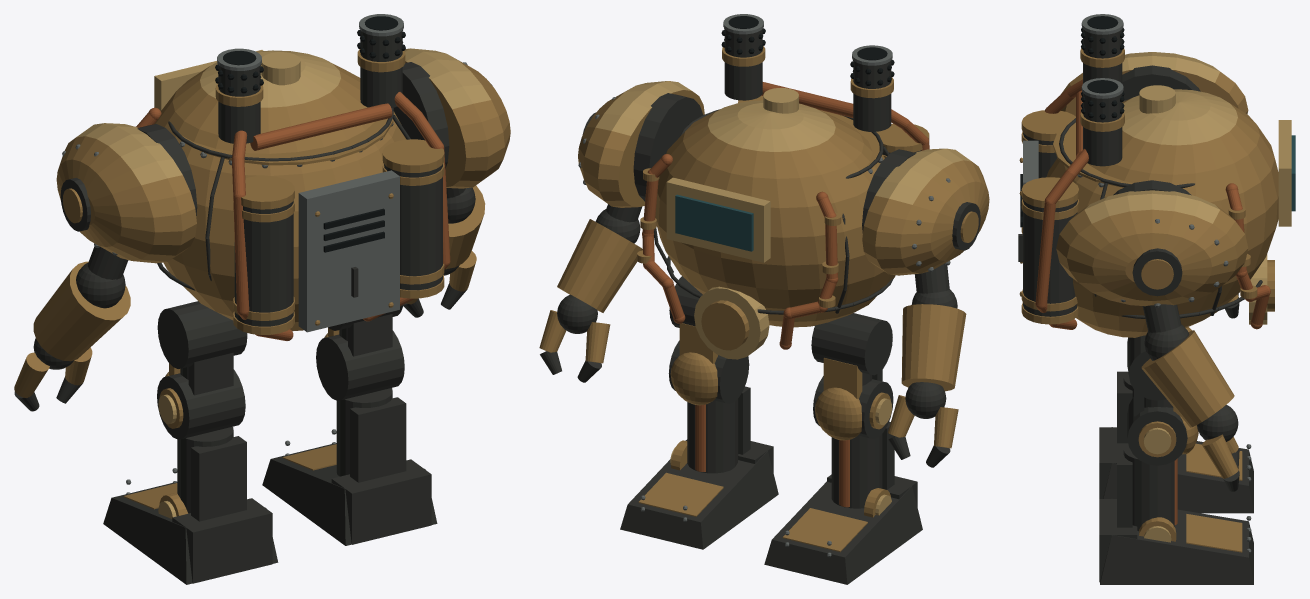
3 renders of one model, left to right at view 1: azimuth 30°, elevation 25°; view 2: azimuth 150°, elevation 25°; view 3: azimuth 270°, elevation 25°, orthographic. The views are drawn at different scales.
Bounding box in the file's own units: 3.7 × 4.01 × 2.12.
